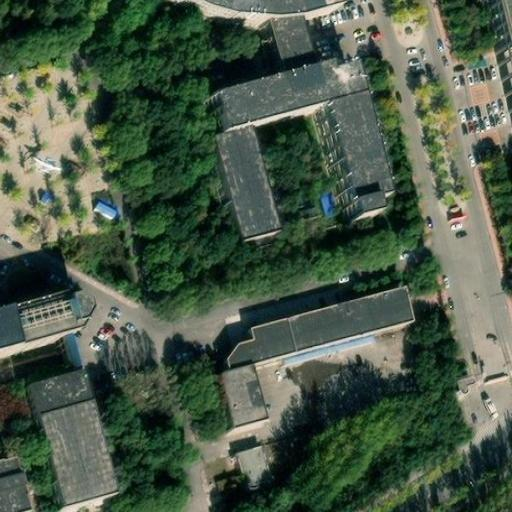building: (222, 287, 415, 429), (33, 370, 118, 506), (206, 63, 351, 135), (308, 101, 378, 223), (215, 125, 281, 237), (168, 0, 328, 24), (259, 21, 309, 80), (217, 446, 273, 494), (63, 330, 83, 374), (90, 192, 121, 220), (449, 368, 476, 393)
